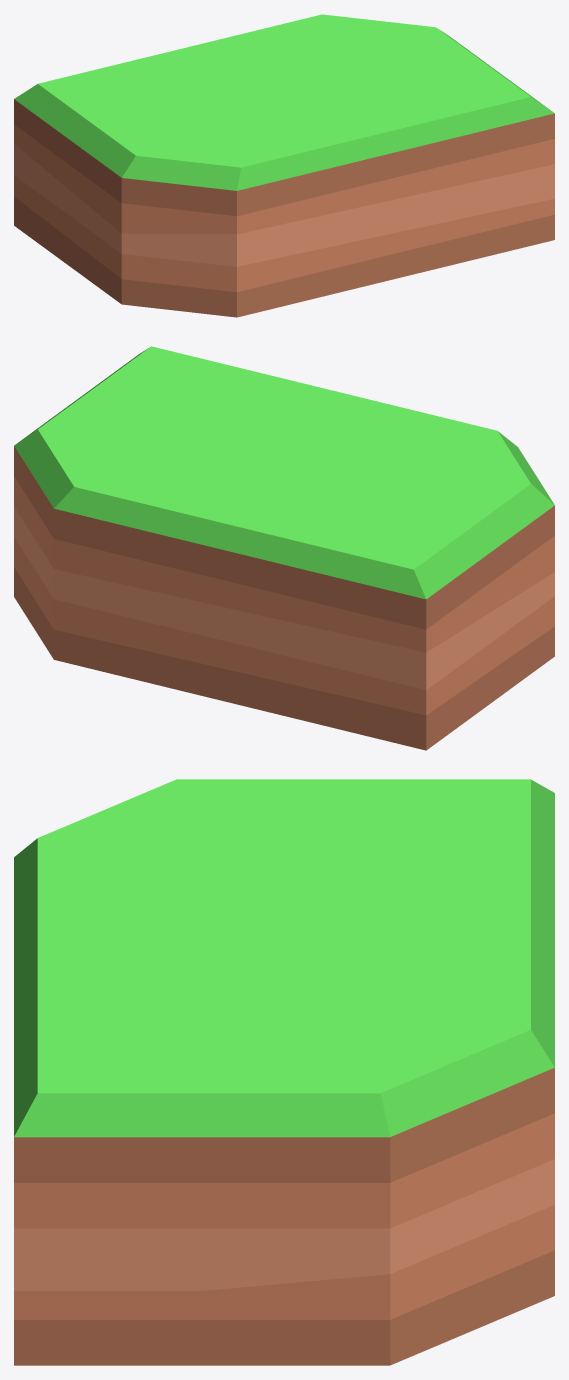
Rendered from StoneWall005.fbx.
3 renders of one model, top to bottom at view 1: azimuth 30°, elevation 25°; view 2: azimuth 150°, elevation 25°; view 3: azimuth 270°, elevation 25°, orthographic. The views are drawn at different scales.
Parts seen in each view (by area): view 1: StoneWall005; view 2: StoneWall005; view 3: StoneWall005.
Boxes of the visible parts, x1=… form: StoneWall005: x1=14, y1=14, x2=554, y2=317; StoneWall005: x1=14, y1=346, x2=554, y2=750; StoneWall005: x1=14, y1=779, x2=554, y2=1365.
Bounding box in the file's own units: 533 × 186 × 354.
